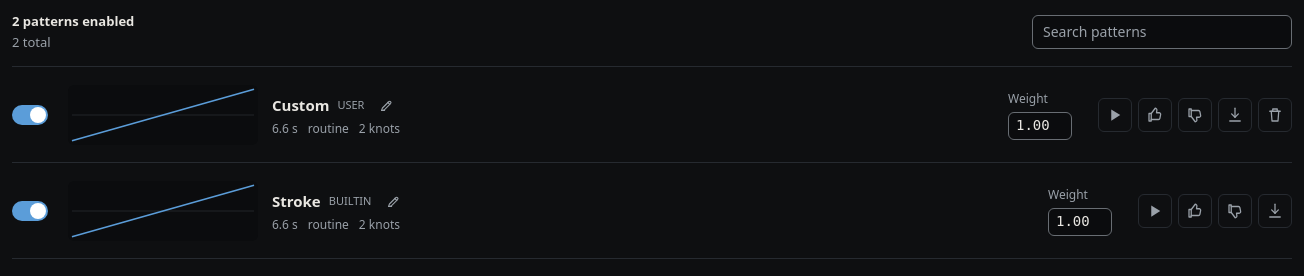
Test: pattern library components › renames patterns inline while keeping curve edits out of the browser
Expected: the button named "Rename Stroke" is shown, [379,188,407,216]
Click the button named "Rename Custom" at (386, 106), box [372,92,400,120]
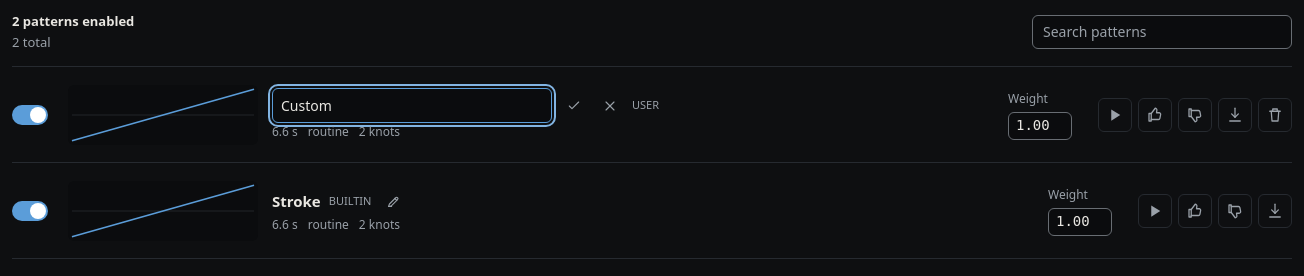
Replace the text in the field named "Rename Custom" with "Rolling custom" at (412, 106), box [272,88,552,123]
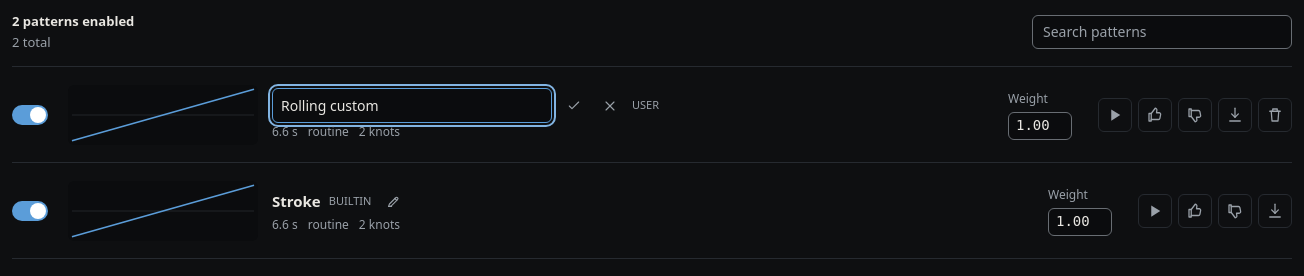
Press Enter in the field named "Rename Custom", box [272,88,552,123]
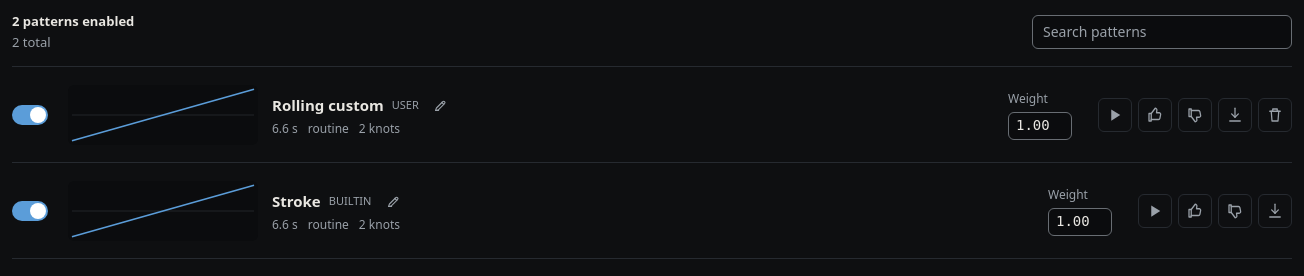
Now the heading "Rolling custom" is shown, box [272,94,384,117]
